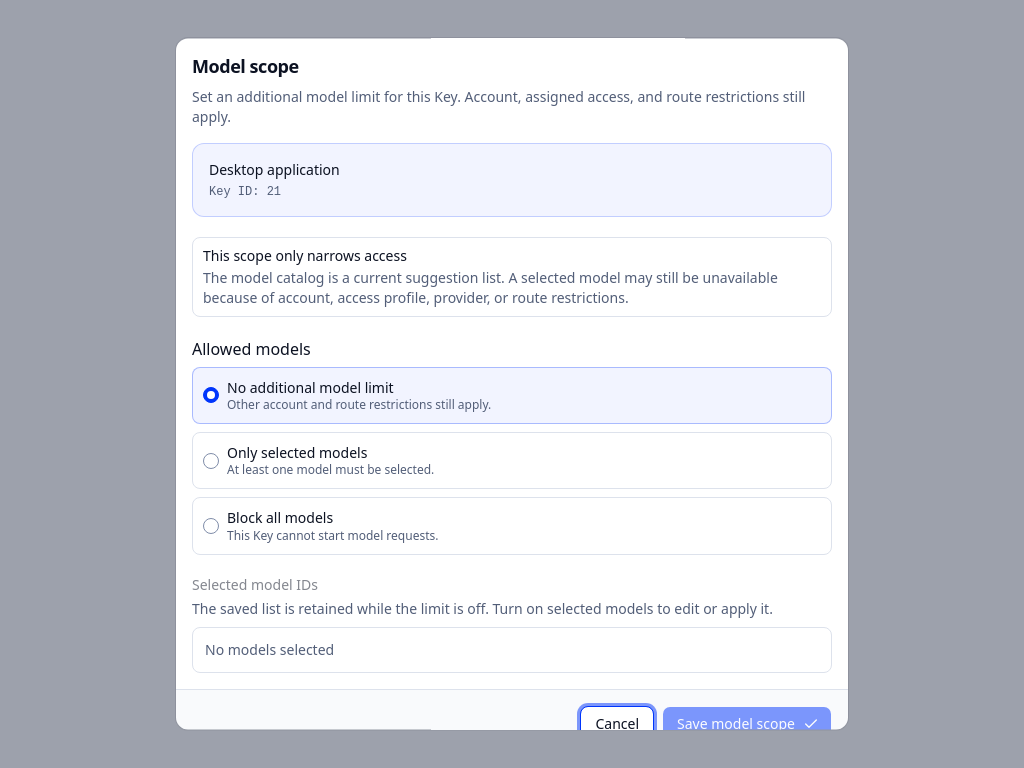
Test: a conflict reloads and displays the current server scope without retrying the write
Click the radio button named "Only selected models" next to "Only selected models".
click(211, 461)  # box [203,453,219,469]
(page scrolled)
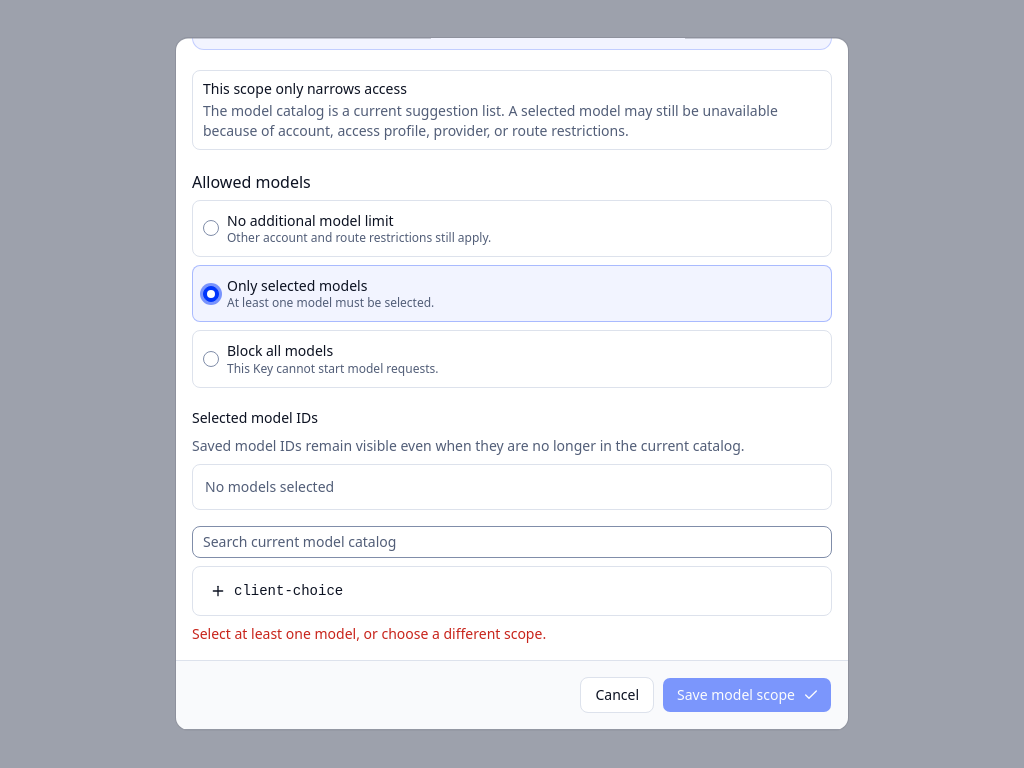
Click the button "client-choice".
click(289, 591)  # box [197,571,827,611]
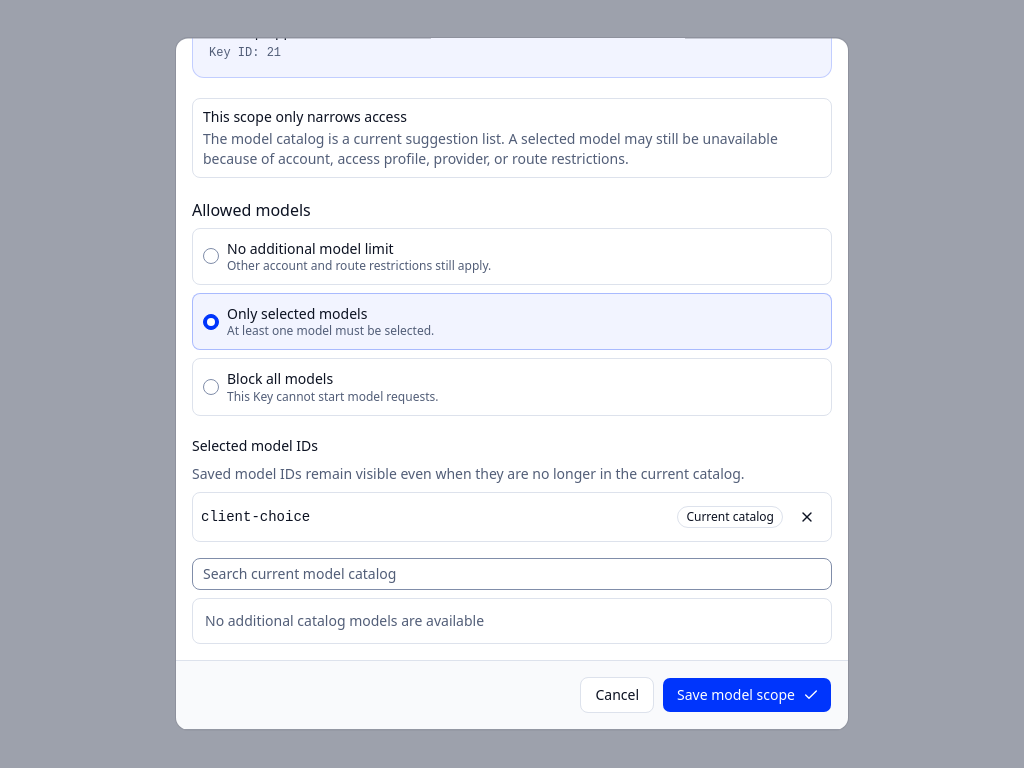
Click the button "Save model scope".
click(747, 695)  # box [662,677,832,713]
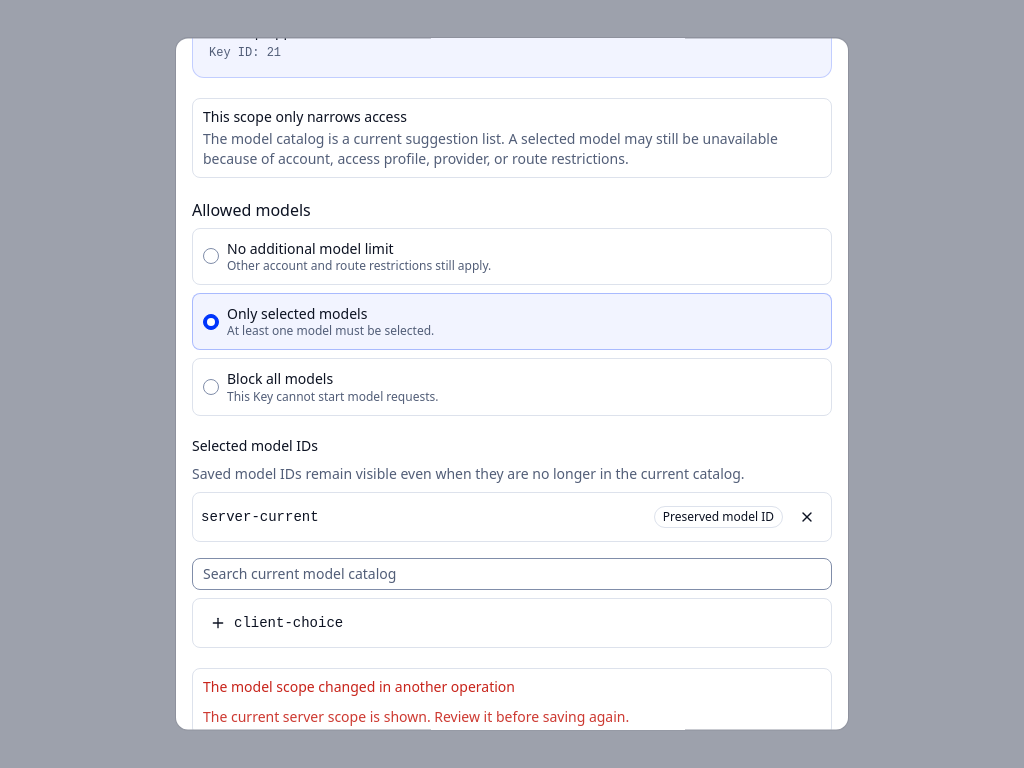
Check: the text "The model scope changed in another operation" is shown, box [203,677,515,696]
Check: the text "server-current" is shown, box [201,509,319,525]
